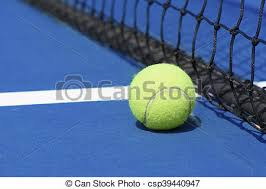tennis_ball: (128, 62, 196, 132)
